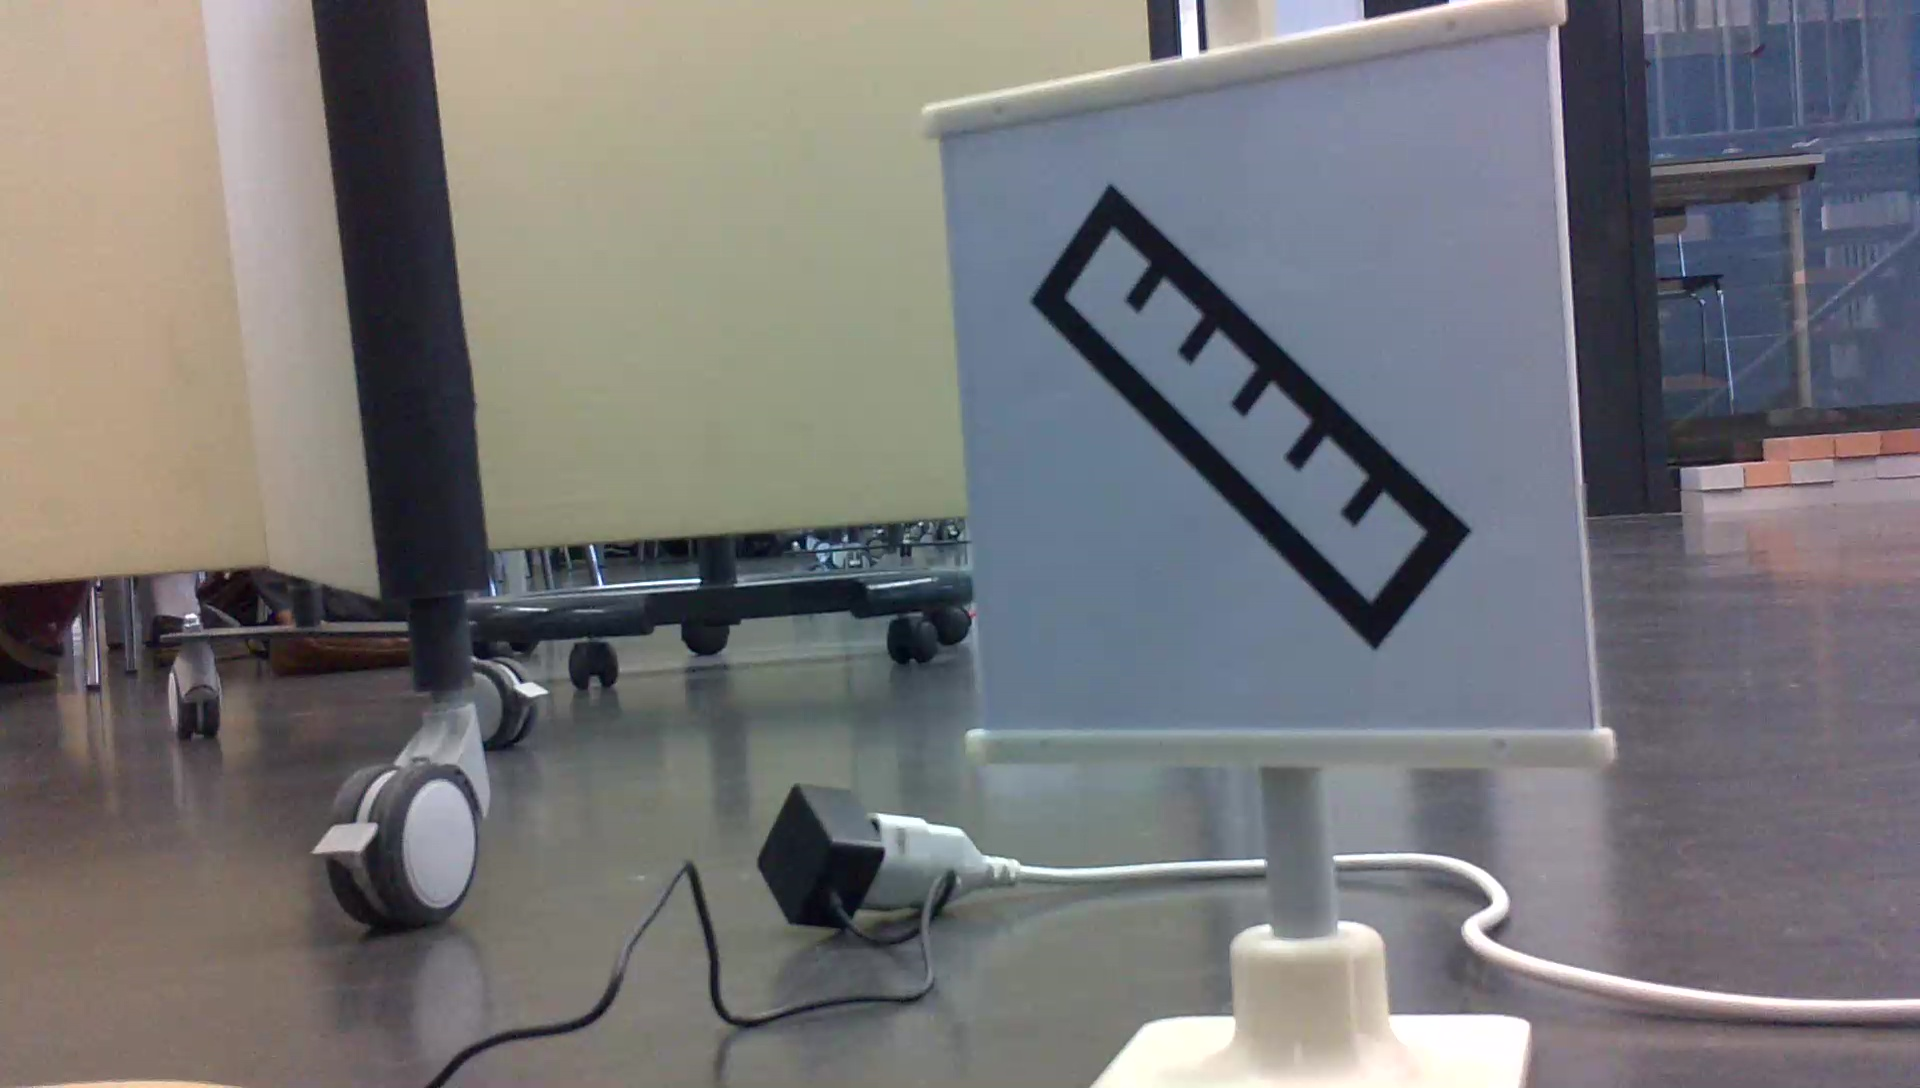ruler: (1022, 171, 1480, 665)
